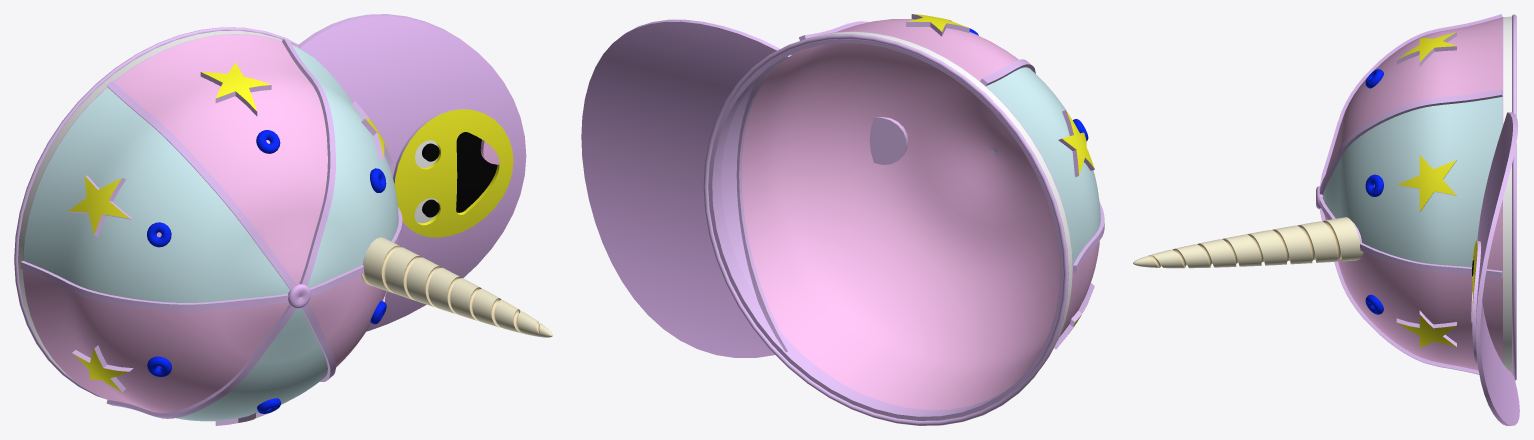
The model's file is Unicorn.glb.
3 renders of one model, left to right at view 1: azimuth 30°, elevation 25°; view 2: azimuth 150°, elevation 25°; view 3: azimuth 270°, elevation 25°, orthographic. The views are drawn at different scales.
Parts seen in each view (by area): view 1: Component1; view 2: Component1; view 3: Component1.
Part boxes in pixels (x1,y1,x2,y2): Component1: (14,14,552,425); Component1: (581,14,1104,425); Component1: (1133,14,1519,425).
Size of the model in its own units: 28.62 by 20.53 by 21.71.
